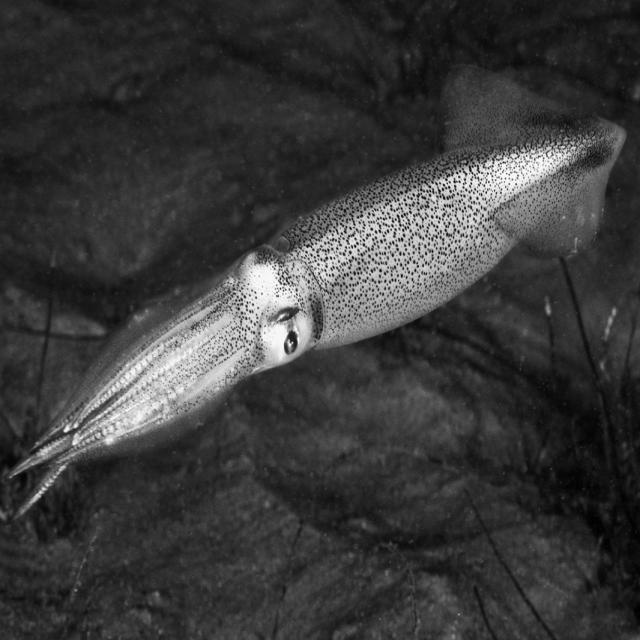SQUID: (0, 57, 640, 502)
